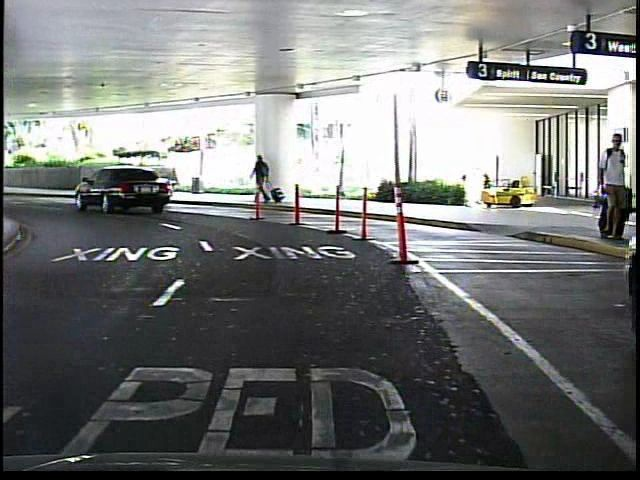person: (590, 121, 632, 247), (251, 151, 276, 208)
